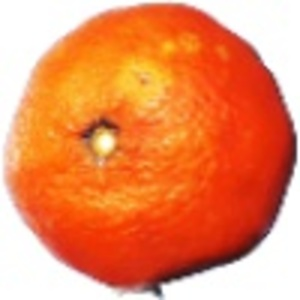tangerina: (2, 1, 298, 300)
